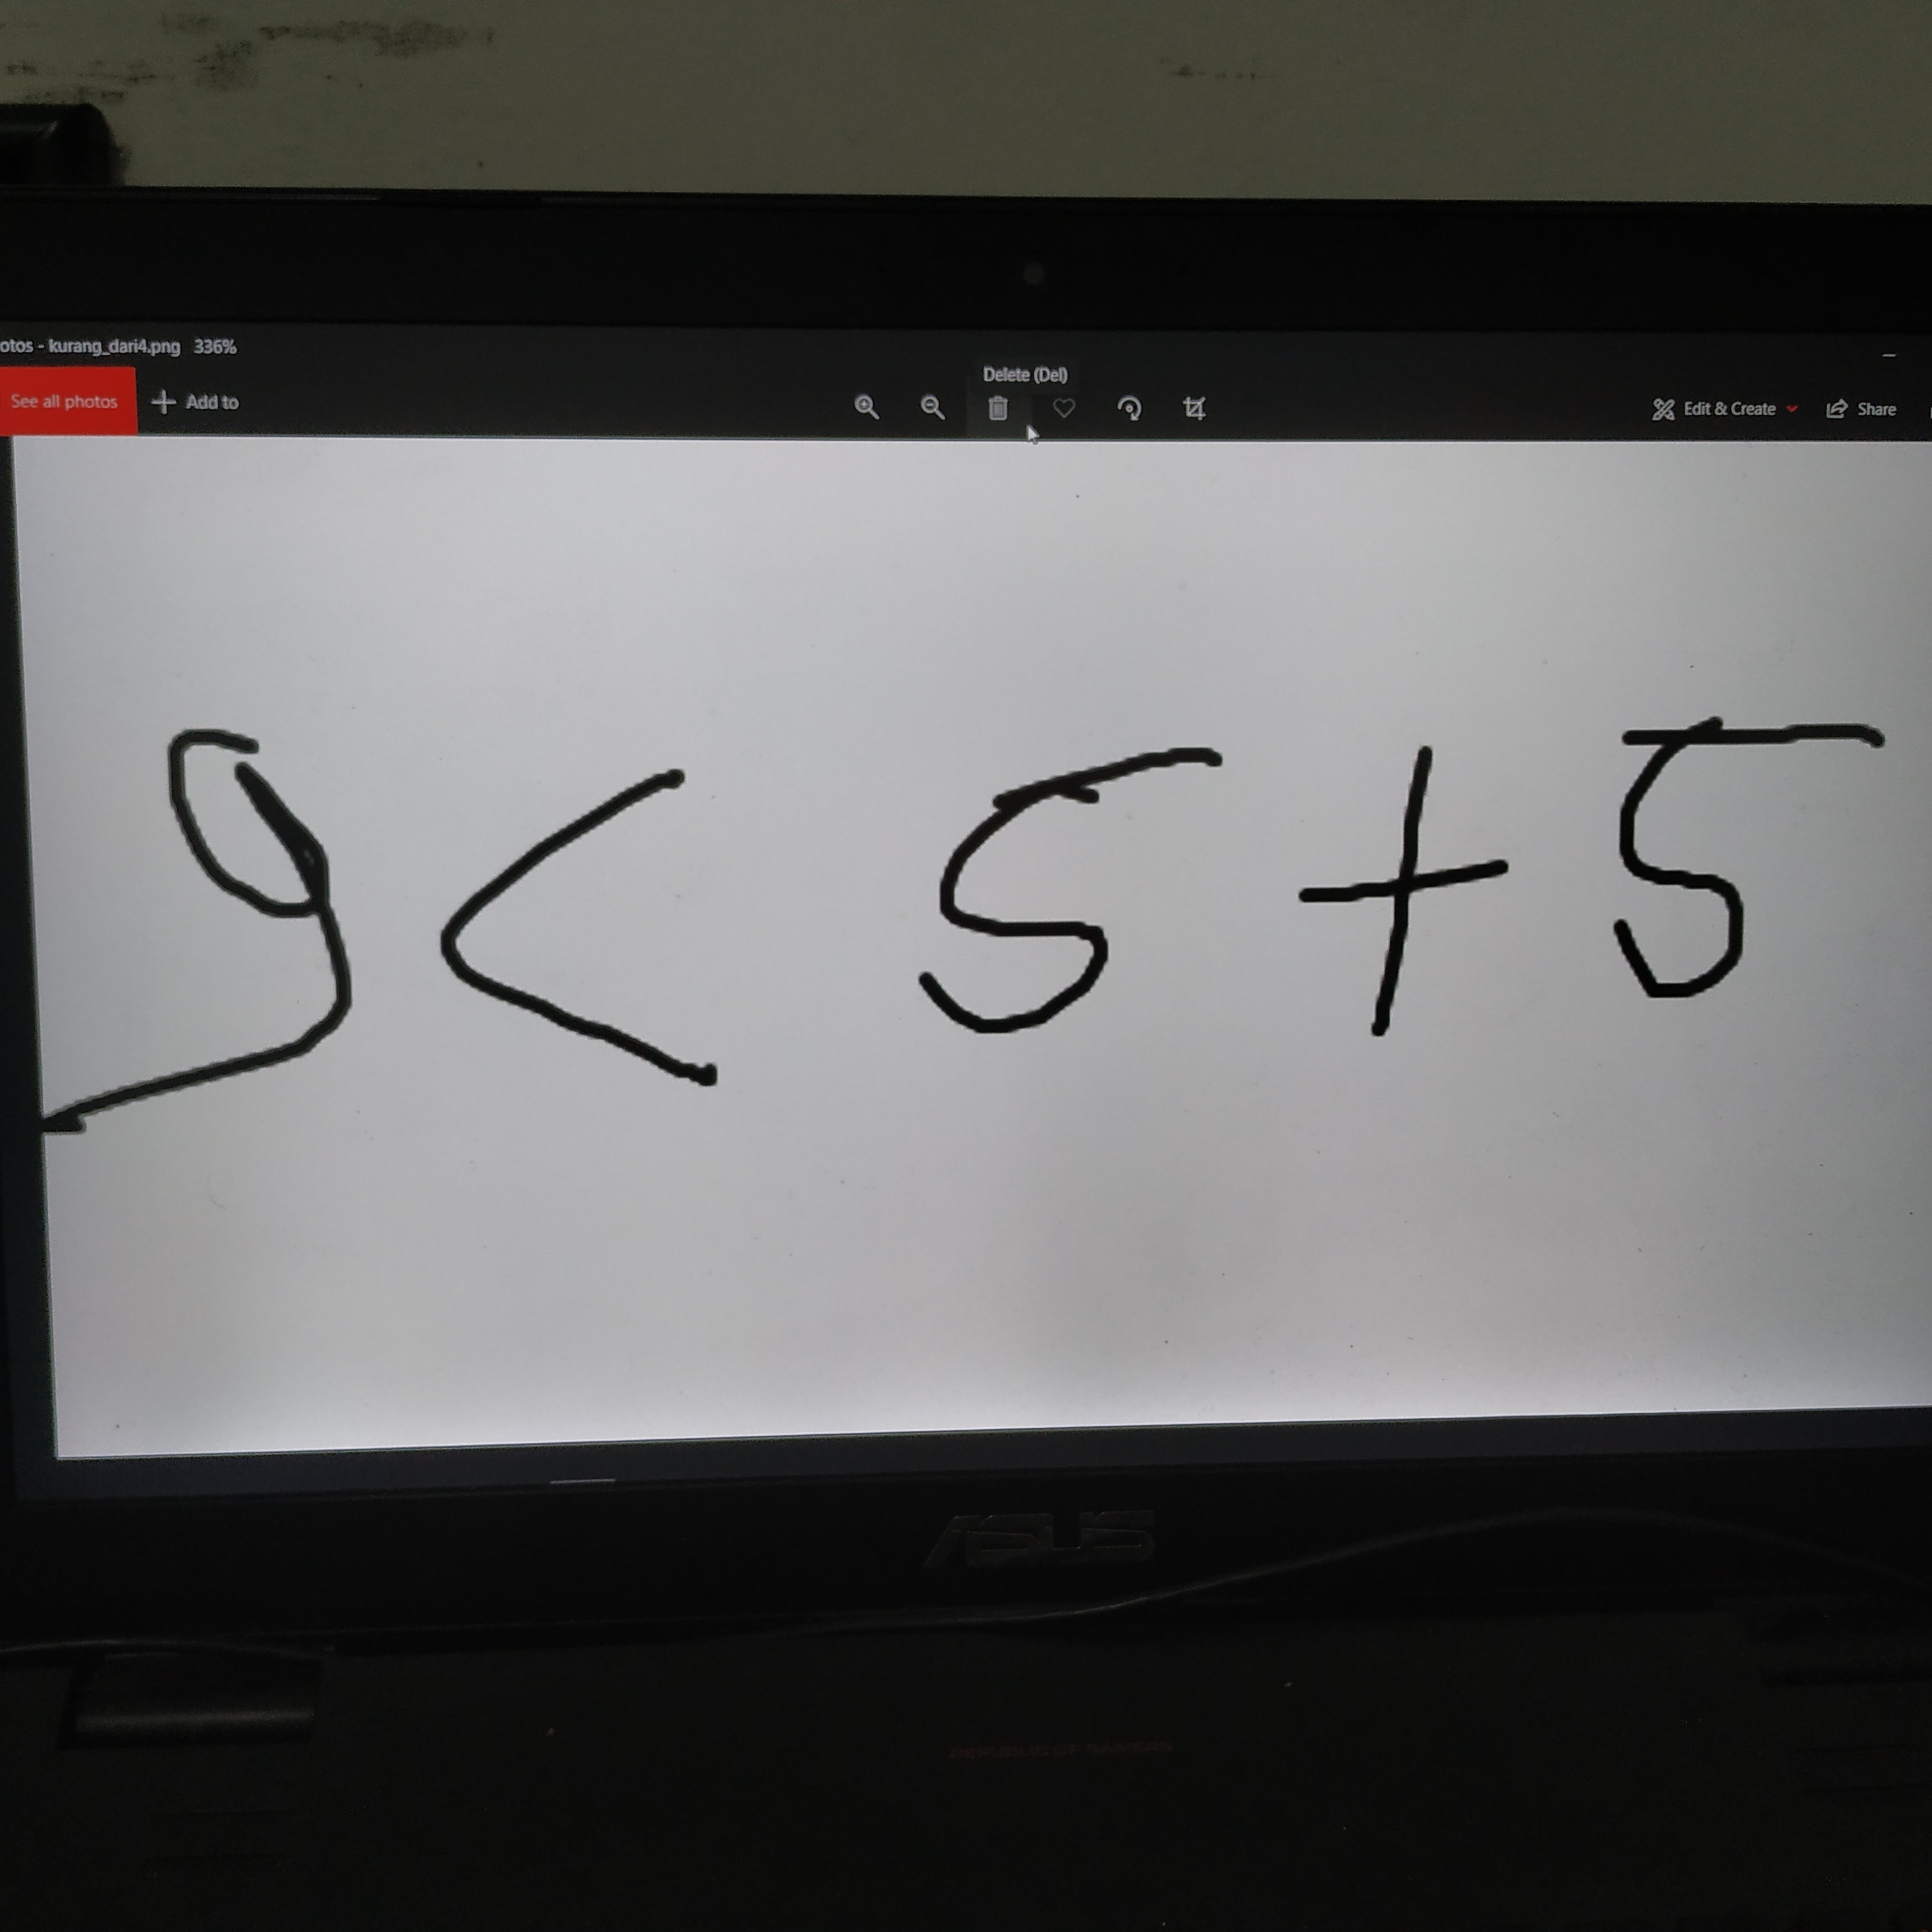lessthan: (426, 751, 760, 1115)
num5: (902, 734, 1238, 1061), (1589, 708, 1906, 1016)
num9: (40, 702, 402, 1155)
sum: (1281, 731, 1533, 1037)
